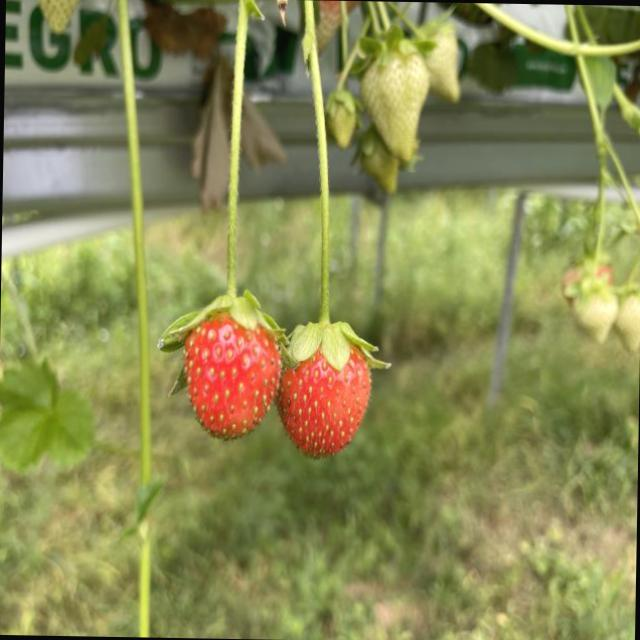stem: (166, 0, 279, 343), (283, 110, 381, 368)
strawberryNR: (360, 51, 429, 160), (34, 0, 77, 30)
strawberryR: (182, 313, 278, 434), (275, 346, 368, 456)
